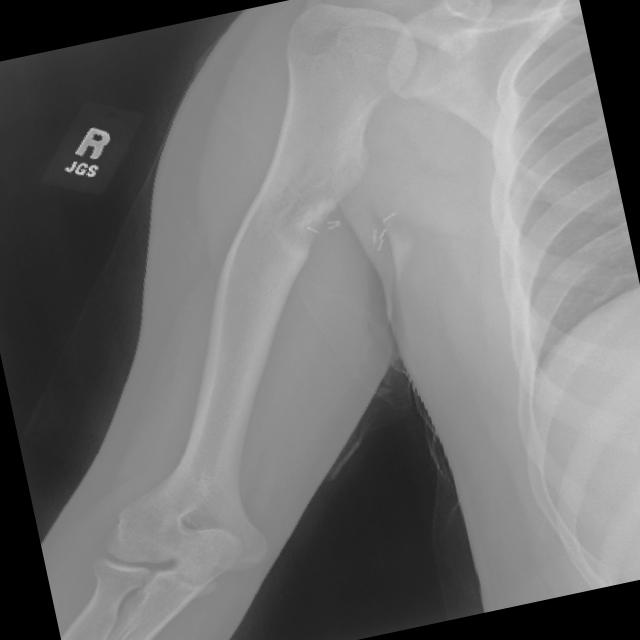humerus fracture: (236, 91, 436, 345)
